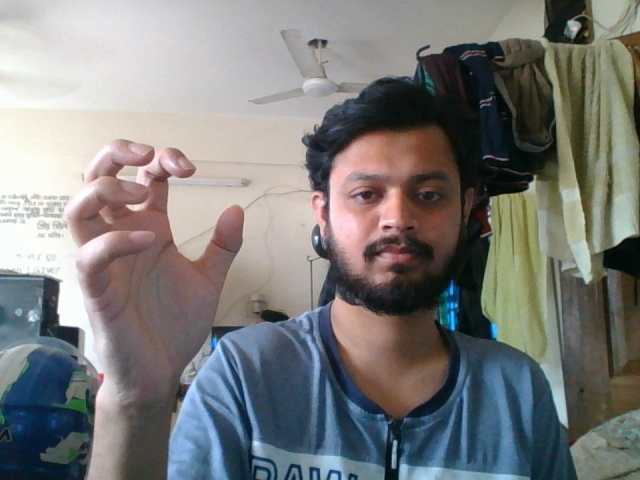ja: (64, 134, 253, 430)
